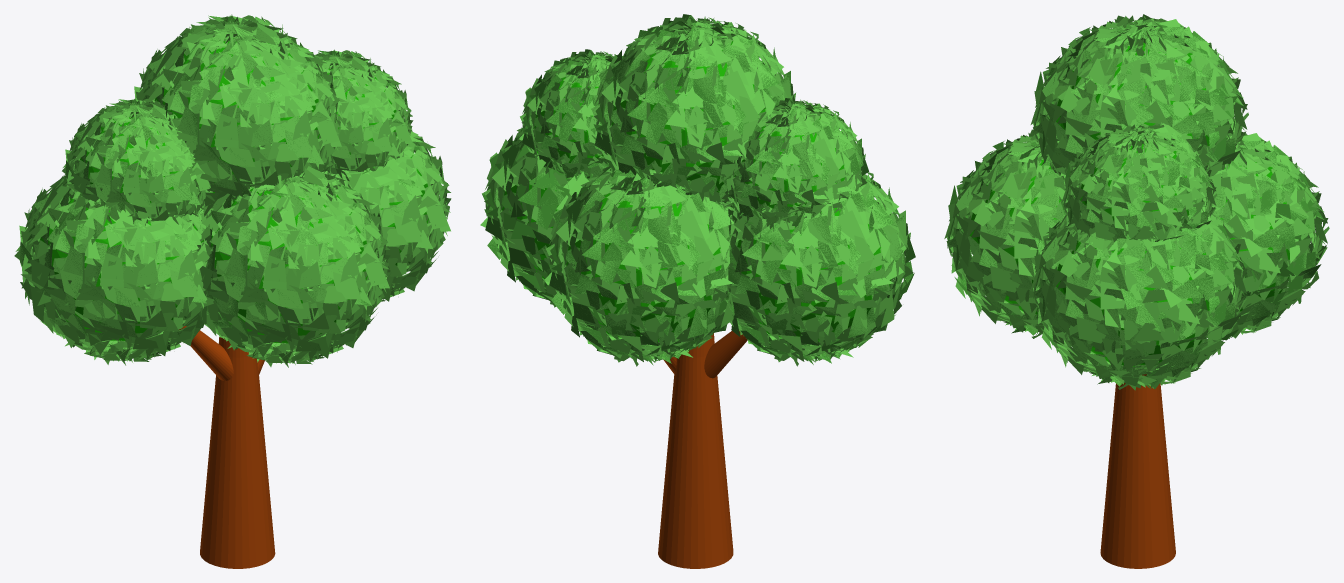
Rendered from RoundTree.fbx.
3 views of the same model, side by side, from view 1: azimuth 30°, elevation 25°; view 2: azimuth 150°, elevation 25°; view 3: azimuth 270°, elevation 25° (orthographic).
Visible parts, largest first — view 1: Sphere.004, Sphere.002, Sphere, Sphere.005, Cylinder, Sphere.001, Sphere.006, Cylinder.001; view 2: Sphere.003, Sphere, Sphere.002, Sphere.005, Cylinder, Sphere.001, Sphere.006, Cylinder.001; view 3: Sphere.001, Sphere, Sphere.004, Sphere.003, Sphere.006, Cylinder.
Boxes of the visible parts, x1,y1,x2,y2 form: Sphere.004: (193, 165, 390, 367); Sphere.002: (14, 169, 215, 365); Sphere: (134, 14, 341, 208); Sphere.005: (62, 98, 212, 225); Cylinder: (200, 337, 275, 568); Sphere.001: (327, 130, 451, 301); Sphere.006: (304, 49, 413, 181); Cylinder.001: (179, 326, 233, 380); Sphere.003: (544, 165, 738, 366); Sphere: (591, 14, 795, 210); Sphere.002: (723, 172, 915, 366); Sphere.005: (725, 98, 868, 227); Cylinder: (658, 333, 733, 568); Sphere.001: (480, 115, 598, 307); Sphere.006: (519, 49, 629, 180); Cylinder.001: (704, 331, 747, 378); Sphere.001: (1030, 204, 1248, 390); Sphere: (1030, 14, 1248, 186); Sphere.004: (944, 129, 1069, 338); Sphere.003: (1207, 133, 1329, 338); Sphere.006: (1062, 124, 1217, 251); Cylinder: (1100, 383, 1175, 568).
Size of the model in its own units: 2431 by 3038 by 2005.
